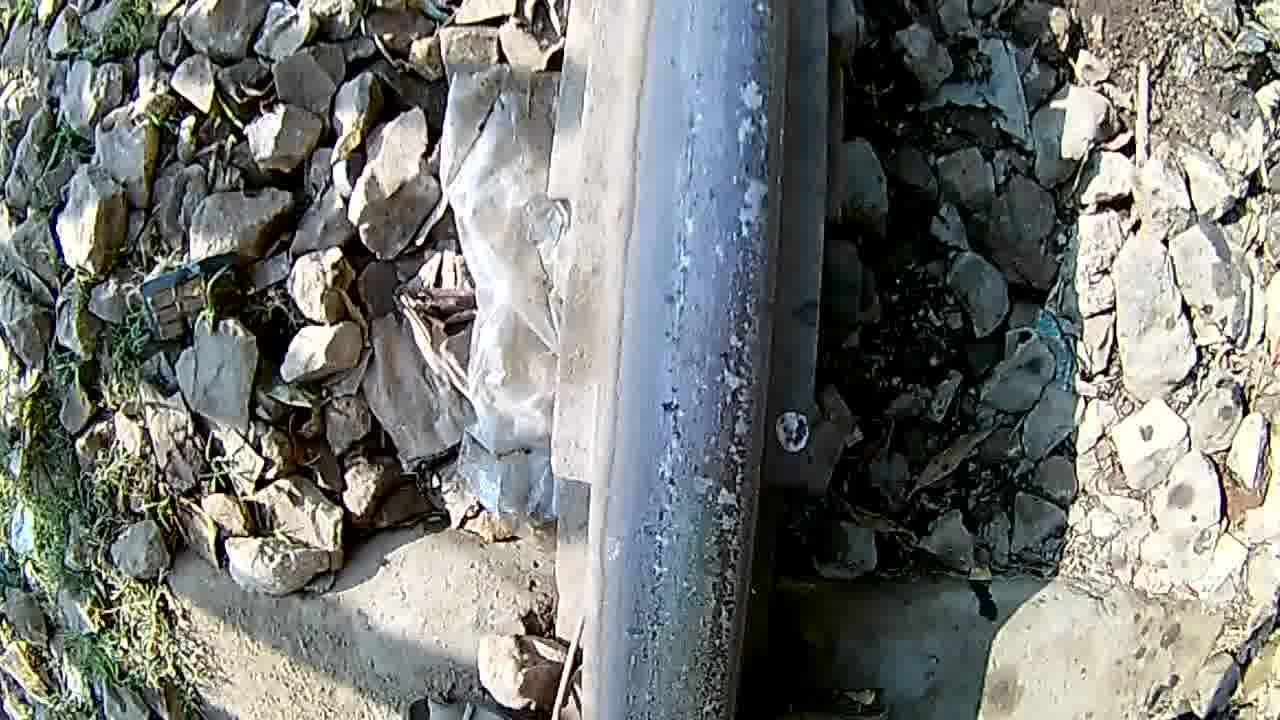clip_missing: (613, 0, 796, 720)
